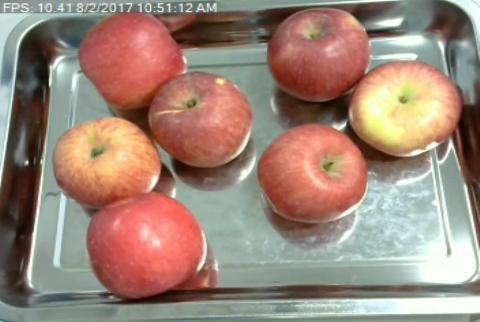apple: (88, 194, 206, 299), (257, 125, 368, 224), (350, 61, 461, 156), (79, 12, 185, 107), (147, 71, 250, 164), (269, 8, 370, 100), (55, 118, 160, 201)
